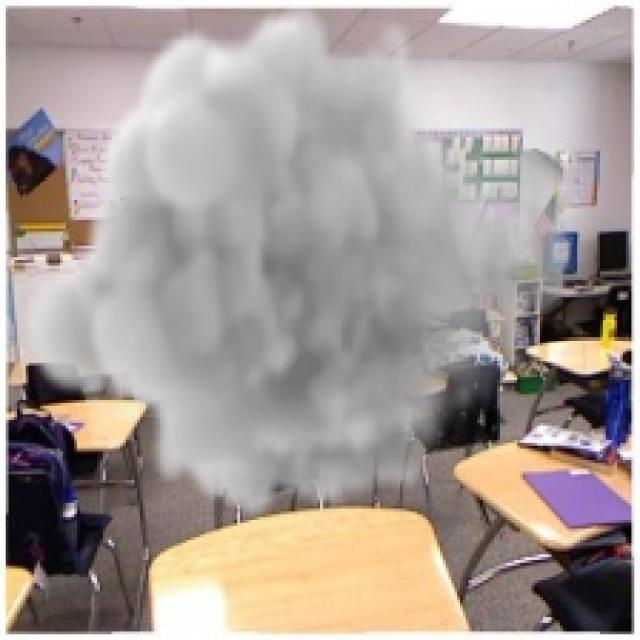smoke: (17, 0, 574, 520)
